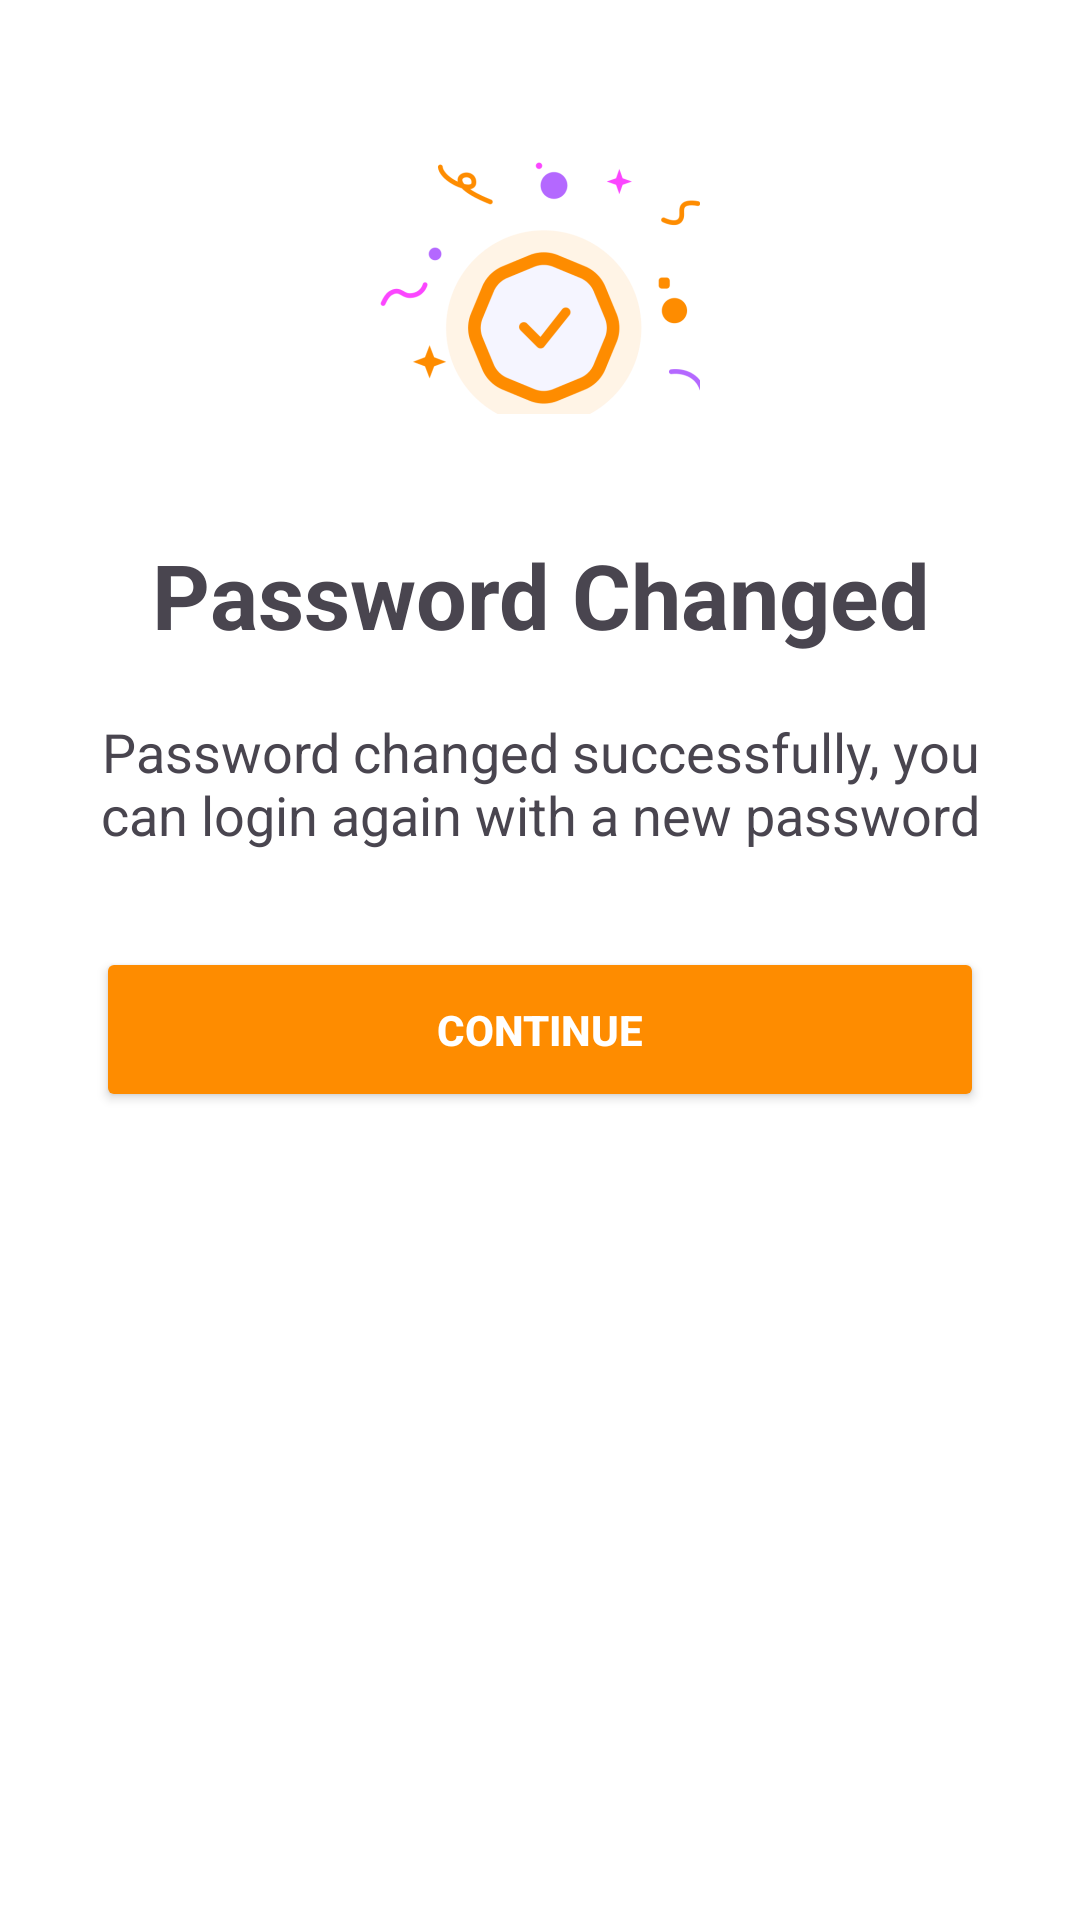

Point at icon controls on the screen. Image size 1080 x 1920, points as point (x, y).
pwd success: point (540, 288)
